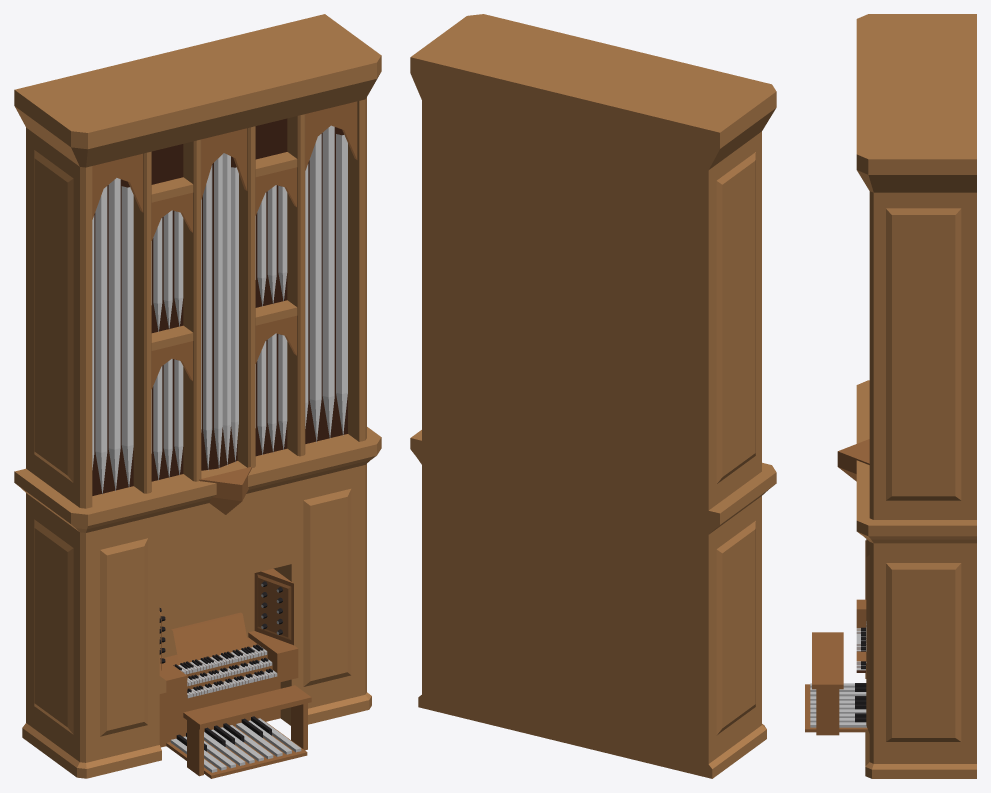
The model's file is pipe-organ-36e035.glb.
3 views of the same model, side by side, from view 1: azimuth 30°, elevation 25°; view 2: azimuth 150°, elevation 25°; view 3: azimuth 270°, elevation 25° (orthographic). The views are drawn at different scales.
Visible parts, largest first — view 1: case, pipes, bench-mesh; view 2: case; view 3: case, bench-mesh.
Boxes of the visible parts, box(x1,y1,x2,y2) form: case: box(14, 14, 381, 778); pipes: box(92, 125, 347, 494); bench-mesh: box(183, 685, 311, 776); case: box(410, 14, 776, 778); case: box(805, 14, 976, 778); bench-mesh: box(812, 632, 843, 735).
Bounding box in the file's own units: 4 × 8 × 2.
